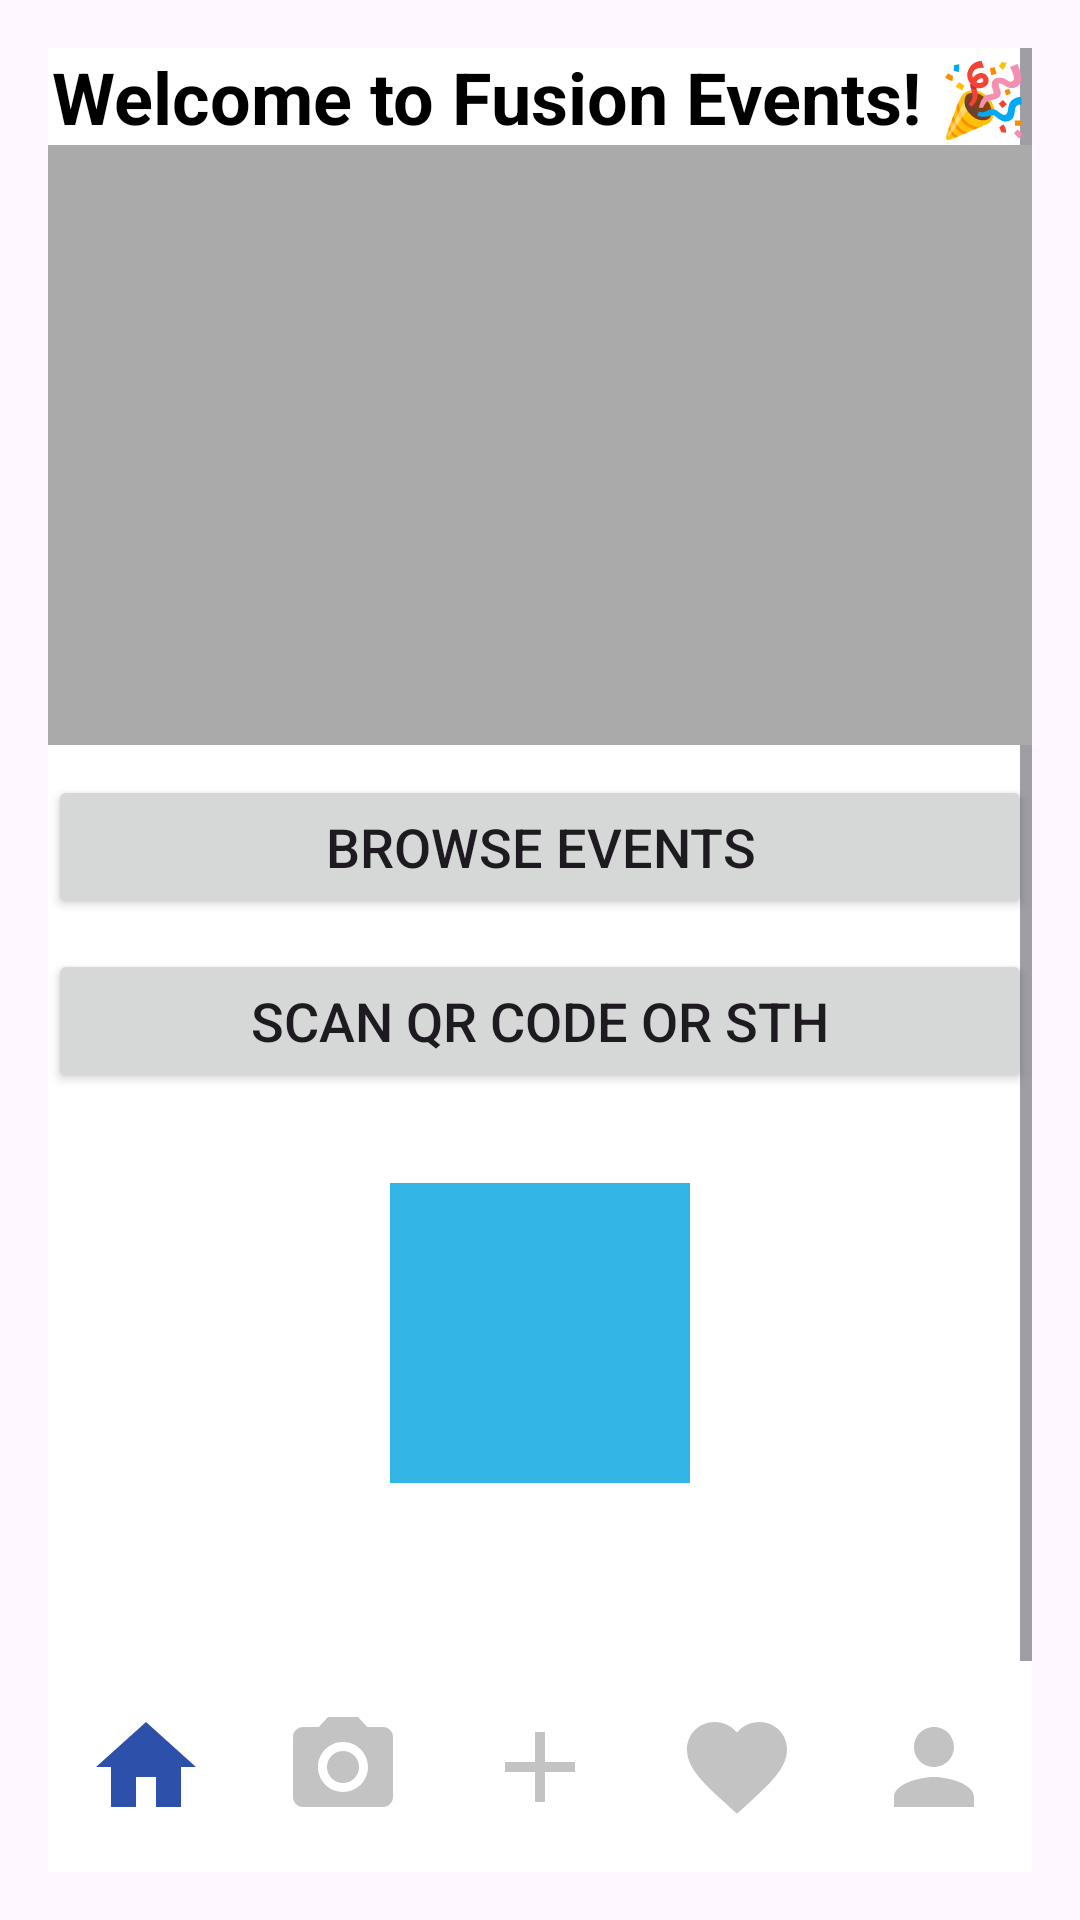

Screen size 1080*1920. Icon name, then its center in pixels as point (x, y):
add: point (540, 1767)
camera: point (343, 1762)
favourite: point (737, 1767)
home: point (146, 1764)
person: point (934, 1767)
